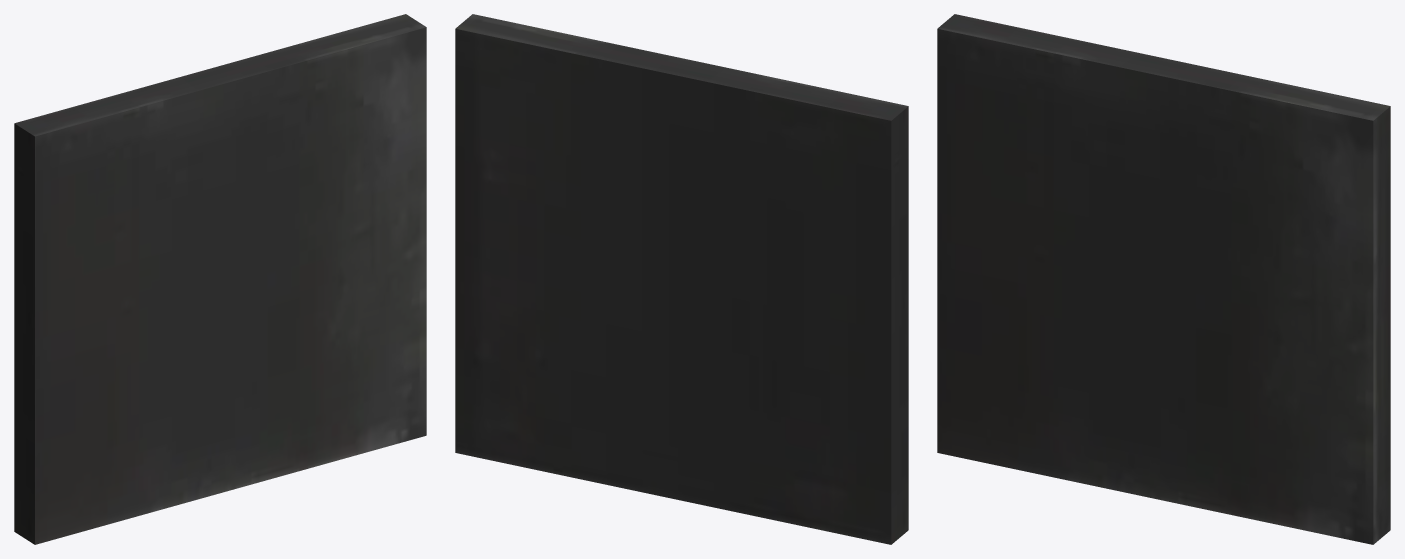
The model's file is seat__seat_pan.glb.
The picture shows the model from 3 angles, left to right: view 1: azimuth 30°, elevation 25°; view 2: azimuth 150°, elevation 25°; view 3: azimuth 330°, elevation 25°; orthographic projection. The views are drawn at different scales.
Parts seen in each view (by area): view 1: world; view 2: world; view 3: world.
Boxes of the visible parts, <box> form: world: <box>14,14,426,544</box>; world: <box>455,14,908,544</box>; world: <box>937,14,1390,544</box>.
Bounding box in the file's own units: 0.2507 × 0.24 × 0.035.
1 material, 1 textured.
